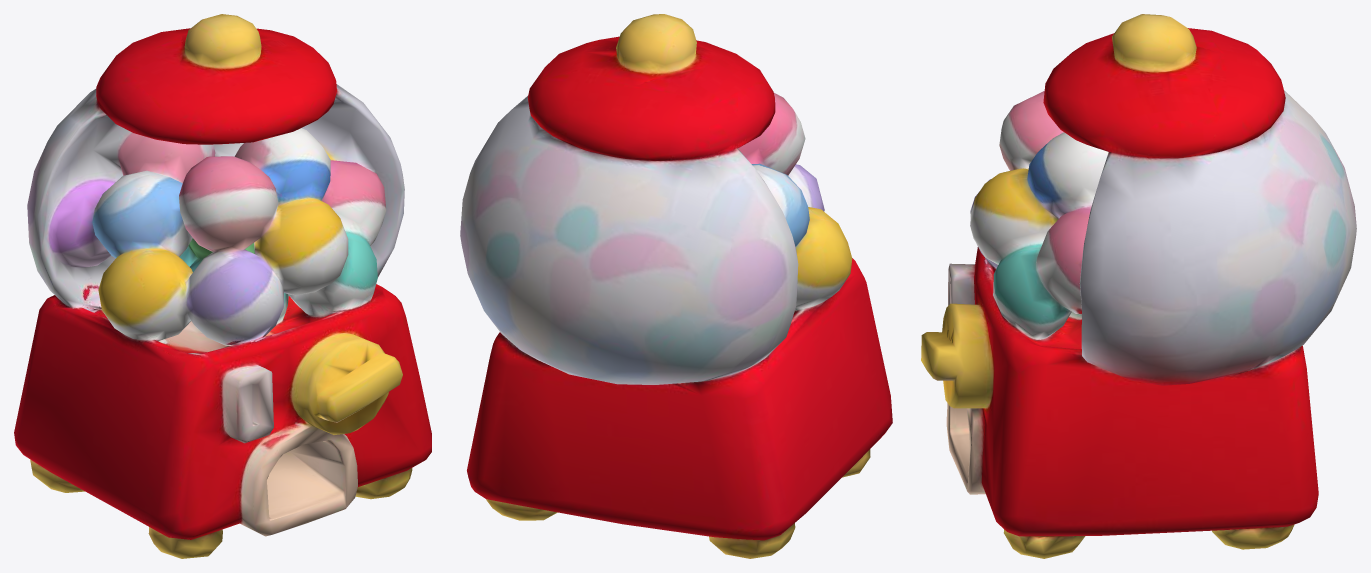
The model's file is prop_gacha.glb.
3 views of the same model, side by side, from view 1: azimuth 30°, elevation 25°; view 2: azimuth 150°, elevation 25°; view 3: azimuth 270°, elevation 25° (orthographic). The views are drawn at different scales.
Parts seen in each view (by area): view 1: Low; view 2: Low; view 3: Low.
Boxes of the visible parts, x1,y1,x2,y2 form: Low: [14, 14, 431, 558]; Low: [460, 14, 892, 558]; Low: [921, 14, 1356, 558].
Size of the model in its own units: 1.07 by 1.4 by 1.16.
1 material, 1 textured.
